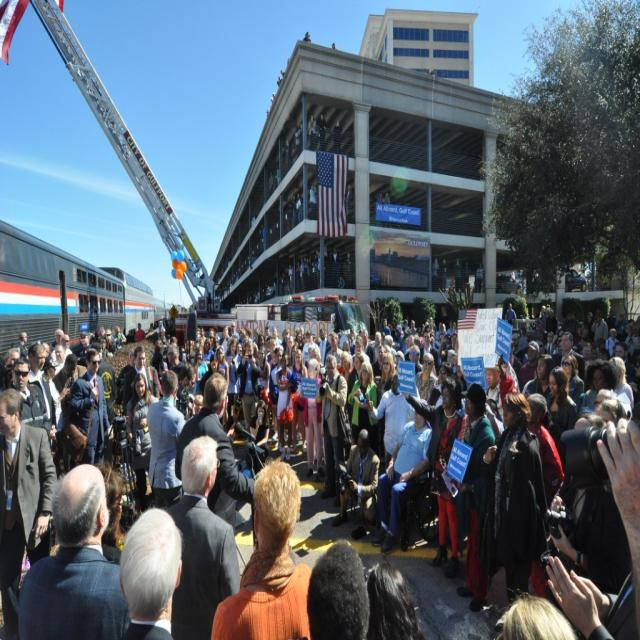body: (484, 383, 640, 639), (10, 457, 144, 639), (210, 455, 313, 640), (163, 434, 242, 640), (475, 391, 550, 605), (402, 367, 471, 583), (295, 532, 431, 639), (0, 387, 58, 637), (174, 371, 256, 540), (444, 380, 496, 615), (371, 397, 434, 556), (116, 505, 183, 640), (526, 392, 566, 600), (62, 346, 115, 467), (330, 426, 380, 540), (316, 354, 353, 508), (146, 368, 186, 510), (366, 371, 416, 474), (125, 371, 160, 514), (180, 319, 262, 371), (7, 355, 57, 439), (42, 355, 72, 480), (90, 342, 119, 468), (26, 341, 58, 454), (296, 358, 325, 481), (534, 324, 604, 374), (482, 351, 522, 431), (374, 316, 424, 376), (122, 343, 160, 419), (347, 360, 378, 448), (376, 351, 398, 474), (236, 339, 262, 442), (287, 346, 309, 456), (260, 325, 320, 364), (546, 366, 578, 434), (582, 356, 620, 412), (450, 124, 506, 161), (276, 352, 294, 463), (506, 94, 560, 130), (441, 318, 467, 392), (550, 330, 586, 382), (521, 352, 556, 402), (253, 346, 271, 442), (248, 400, 272, 466), (269, 343, 285, 442), (88, 323, 128, 361), (336, 312, 369, 358), (295, 246, 328, 292), (225, 337, 242, 425), (174, 360, 198, 420), (414, 351, 440, 406), (517, 338, 542, 392), (560, 354, 584, 406), (506, 328, 528, 383), (428, 360, 454, 406), (620, 325, 640, 384), (199, 353, 225, 397), (0, 344, 22, 396), (265, 66, 286, 118), (52, 353, 78, 393), (419, 328, 440, 377), (42, 339, 68, 378), (614, 340, 637, 384), (583, 308, 639, 326), (527, 200, 548, 248), (424, 314, 442, 369), (150, 343, 167, 401), (269, 346, 285, 406), (300, 329, 322, 370), (192, 346, 210, 396), (284, 189, 305, 231), (166, 343, 186, 384), (324, 331, 345, 368), (273, 262, 294, 298), (350, 337, 371, 372), (157, 331, 171, 382), (239, 283, 273, 304), (371, 343, 387, 386), (73, 330, 91, 368), (192, 344, 205, 396), (50, 334, 74, 362), (214, 344, 230, 386), (182, 392, 205, 421), (317, 327, 332, 366), (604, 326, 620, 362), (328, 246, 341, 288), (166, 332, 180, 371), (341, 183, 354, 223), (110, 325, 128, 352), (543, 329, 559, 357), (332, 119, 344, 156), (293, 121, 305, 158), (342, 250, 353, 290), (16, 331, 30, 362), (360, 327, 376, 354), (202, 336, 215, 368), (318, 112, 328, 152), (307, 113, 317, 152), (254, 225, 266, 257), (309, 183, 319, 221), (544, 308, 558, 335), (453, 256, 463, 293), (185, 339, 198, 367), (439, 257, 449, 293), (283, 138, 293, 174), (232, 342, 244, 371), (155, 319, 167, 347), (462, 258, 471, 294), (476, 262, 486, 294), (163, 312, 178, 333), (538, 302, 550, 327), (133, 322, 147, 343), (127, 344, 137, 370), (506, 302, 516, 327), (267, 168, 275, 198), (602, 344, 612, 366), (431, 257, 440, 279), (54, 328, 64, 344), (381, 191, 391, 204), (302, 30, 312, 43), (341, 339, 350, 353), (274, 167, 280, 187), (380, 190, 388, 203), (330, 39, 338, 51), (312, 183, 318, 196), (503, 312, 508, 322)
